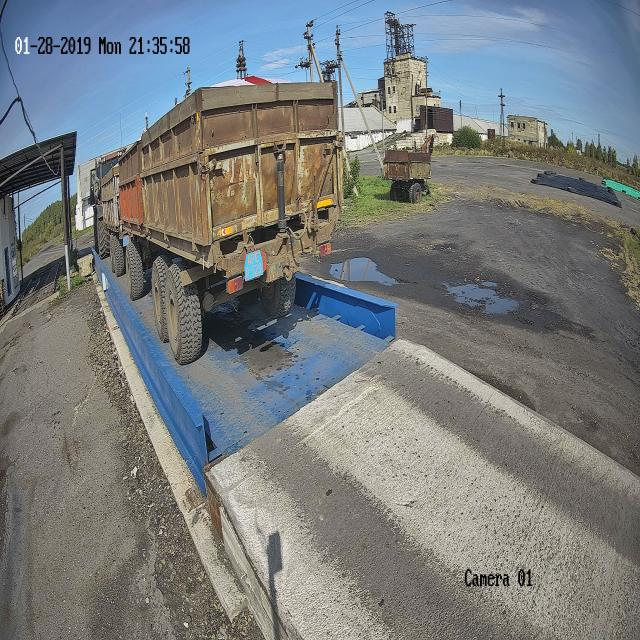license plate: (244, 250, 264, 281), (122, 234, 129, 247)
trailer: (120, 82, 341, 363), (118, 139, 144, 251), (384, 149, 431, 203)
truck: (89, 149, 124, 258), (90, 149, 124, 258)
